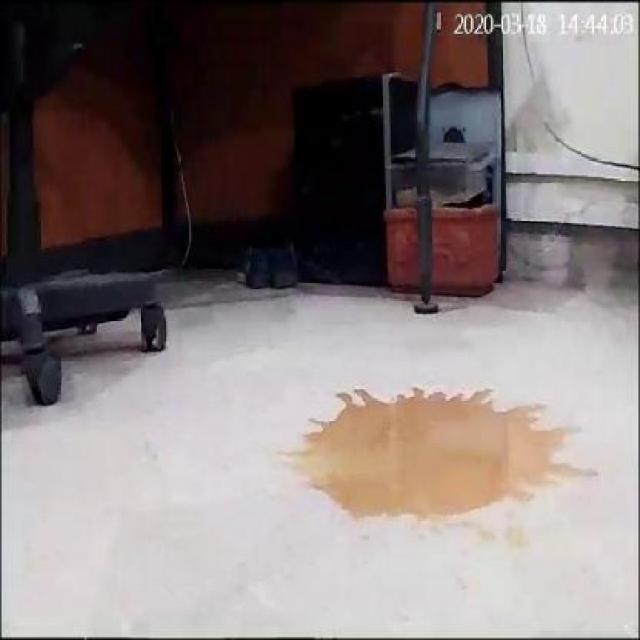spill: (280, 379, 606, 527)
